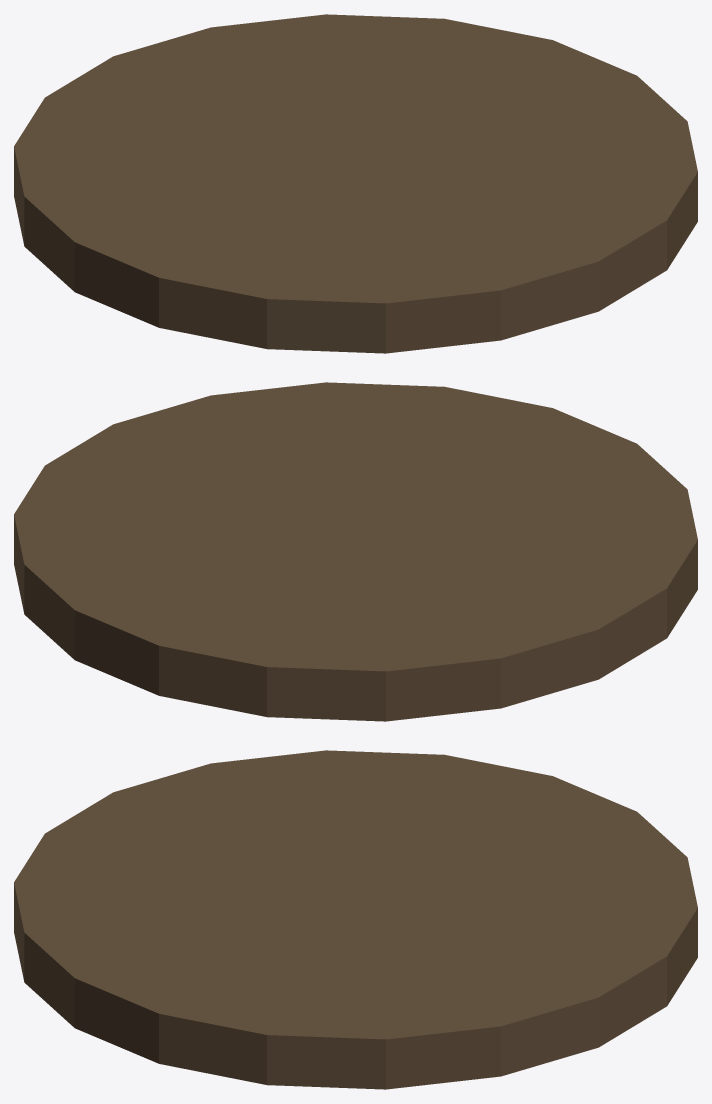
Rendered from SM_kitchenDeck.glb.
3 renders of one model, top to bottom at view 1: azimuth 30°, elevation 25°; view 2: azimuth 150°, elevation 25°; view 3: azimuth 270°, elevation 25°, orthographic.
Visible parts, largest first — view 1: SM_kitchenDeck; view 2: SM_kitchenDeck; view 3: SM_kitchenDeck.
Part boxes in pixels (x1,y1,x2,y2): SM_kitchenDeck: [14, 14, 697, 353]; SM_kitchenDeck: [14, 382, 697, 721]; SM_kitchenDeck: [14, 750, 697, 1089].
Size of the model in its own units: 0.2437 by 0.0197 by 0.2437.
Materials: 1 (1 with a texture image).
